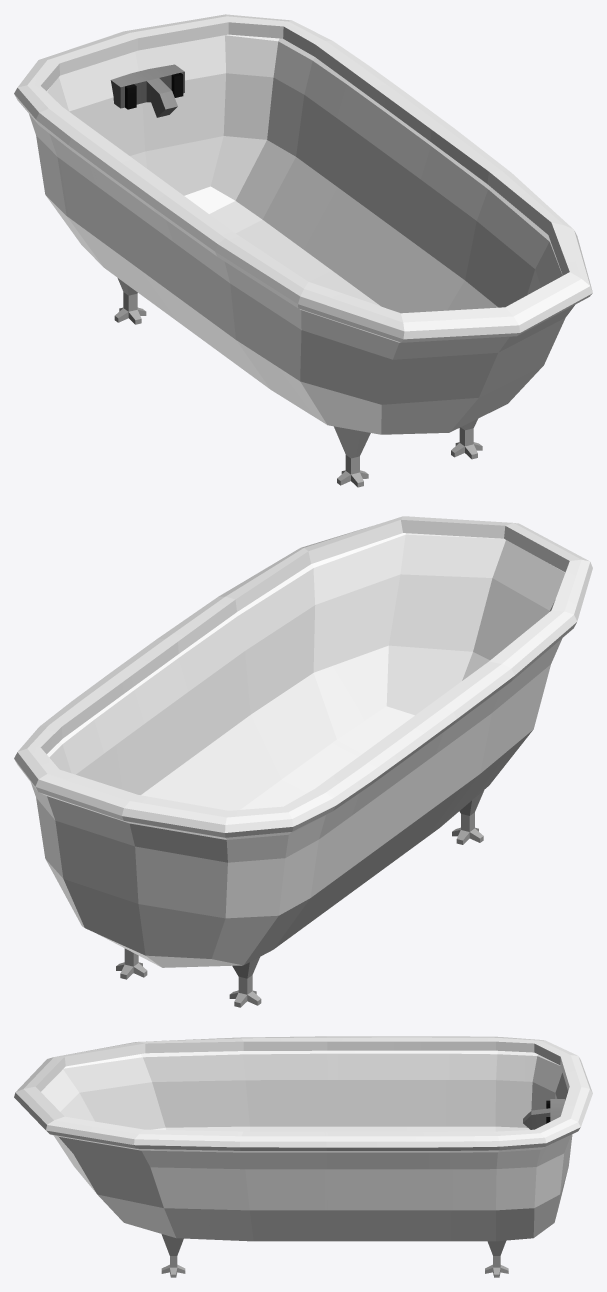
File: BathtubModel.fbx
3 views of the same model, one above another, from view 1: azimuth 30°, elevation 25°; view 2: azimuth 150°, elevation 25°; view 3: azimuth 270°, elevation 25° (orthographic). The views are drawn at different scales.
Visible parts, largest first — view 1: BathtubModel; view 2: BathtubModel; view 3: BathtubModel.
Part boxes in pixels (box(x1,y1,x2,y2)): BathtubModel: box(14, 14, 592, 487); BathtubModel: box(14, 516, 592, 1007); BathtubModel: box(14, 1036, 592, 1277).
Size of the model in its own units: 126 by 90.6 by 286.
